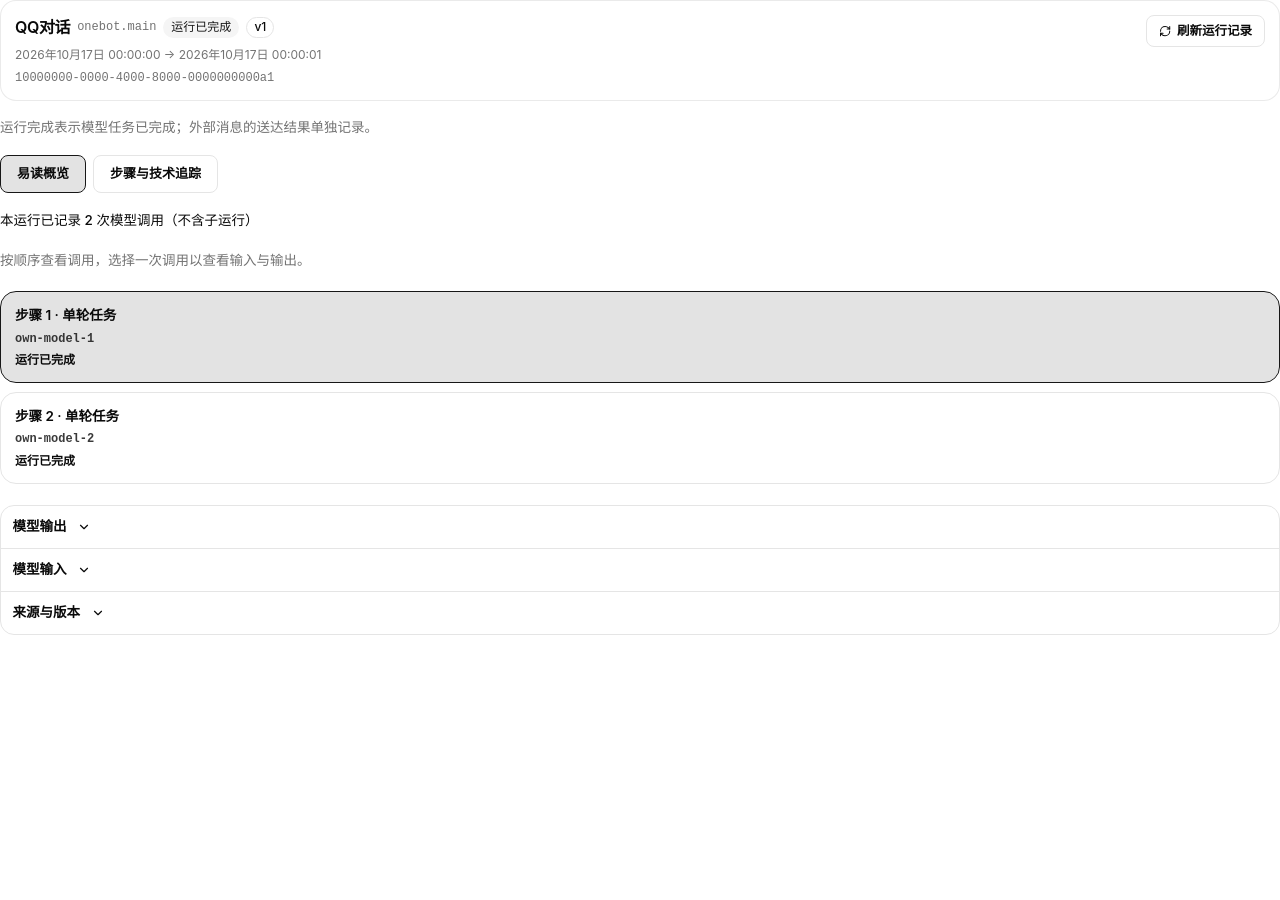
run detail prefetch and two-board sharing › prefetches every own step body while all rows are closed and adds no request on step, view or row changes
Expected: the text "本运行已记录 2 次模型调用（不含子运行）" is shown, [0, 212, 258, 228]
Expected: the button "模型输出" is shown, [1, 506, 102, 548]
Click the button "模型输入". click: (52, 570)
box: [1, 548, 102, 590]
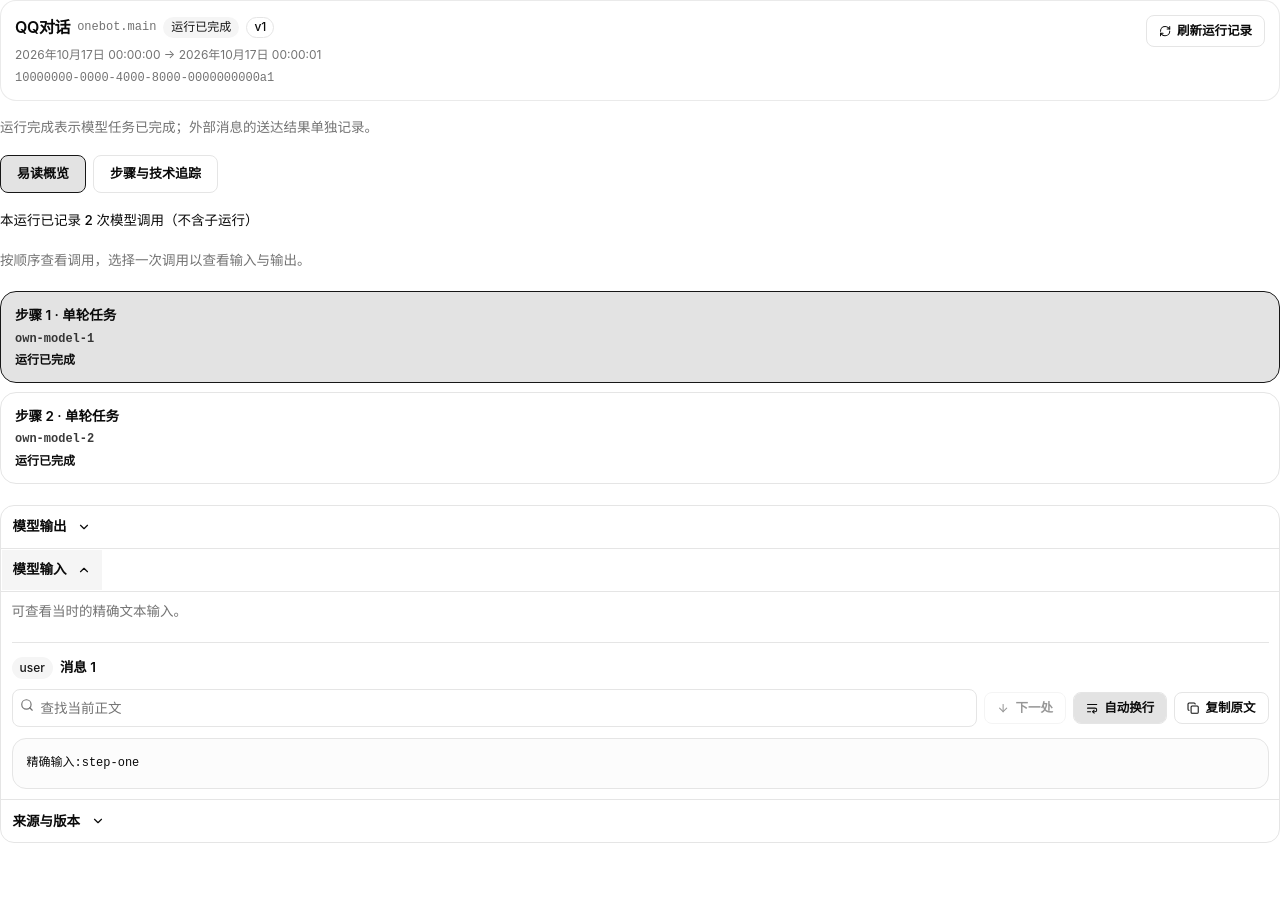
Result: the button "模型输入" is expanded at [1, 548, 102, 590]
Result: the text "精确输入:step-one" is shown at [12, 738, 1268, 789]
# 换选中步：纯视觉切换，不新增读取
Click the button "步骤 2 · 单轮任务 own-model-2 运行已完成". click: (67, 416)
box: [0, 392, 1279, 484]
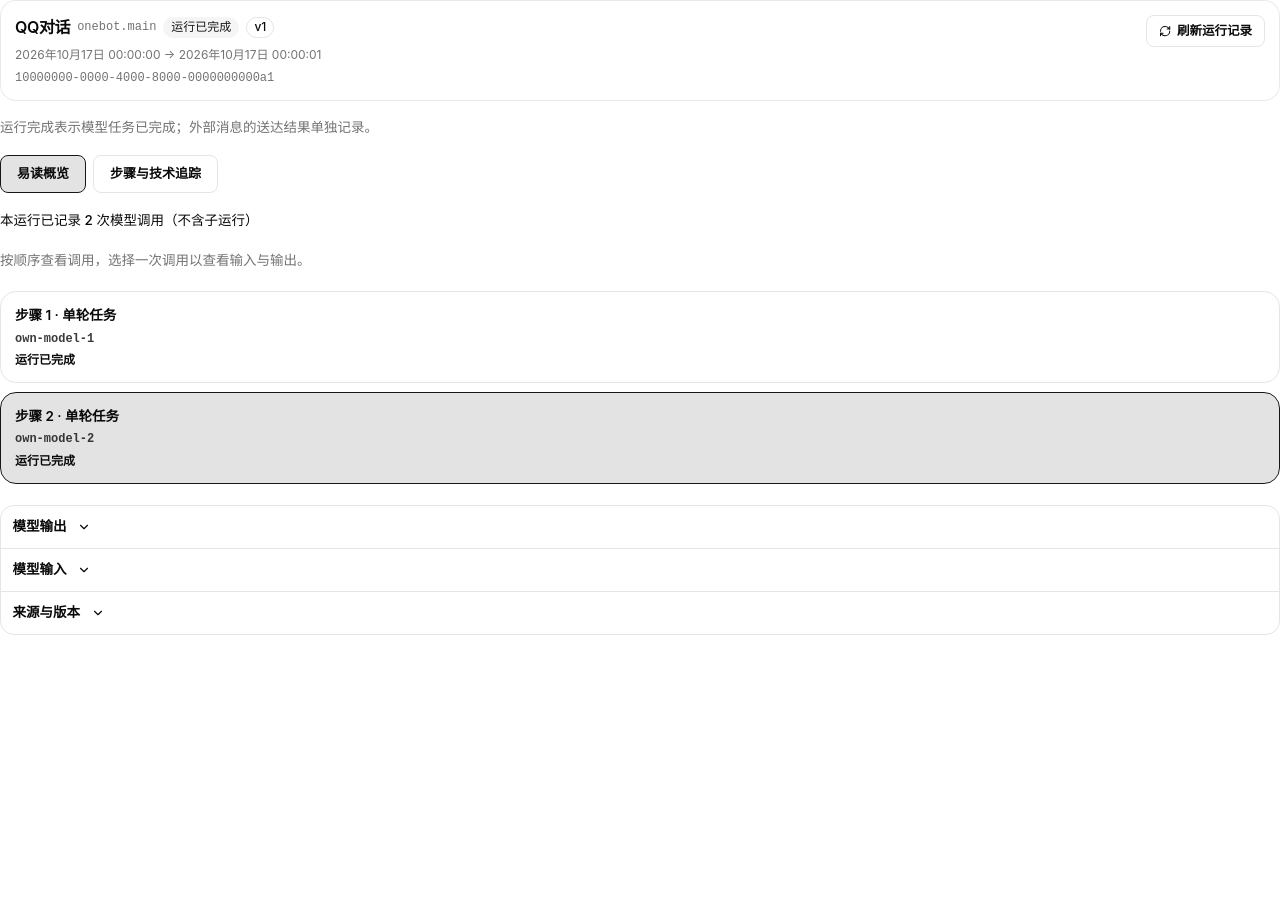
Result: the number of elements named "模型证据" is 1 at [0, 504, 1279, 634]
# 切到技术视图：默认 null，不显示模型证据；无时间线 span 的 own call 用既有步骤标签回退
Click the button "步骤与技术追踪". click: (156, 174)
box: [93, 155, 218, 193]
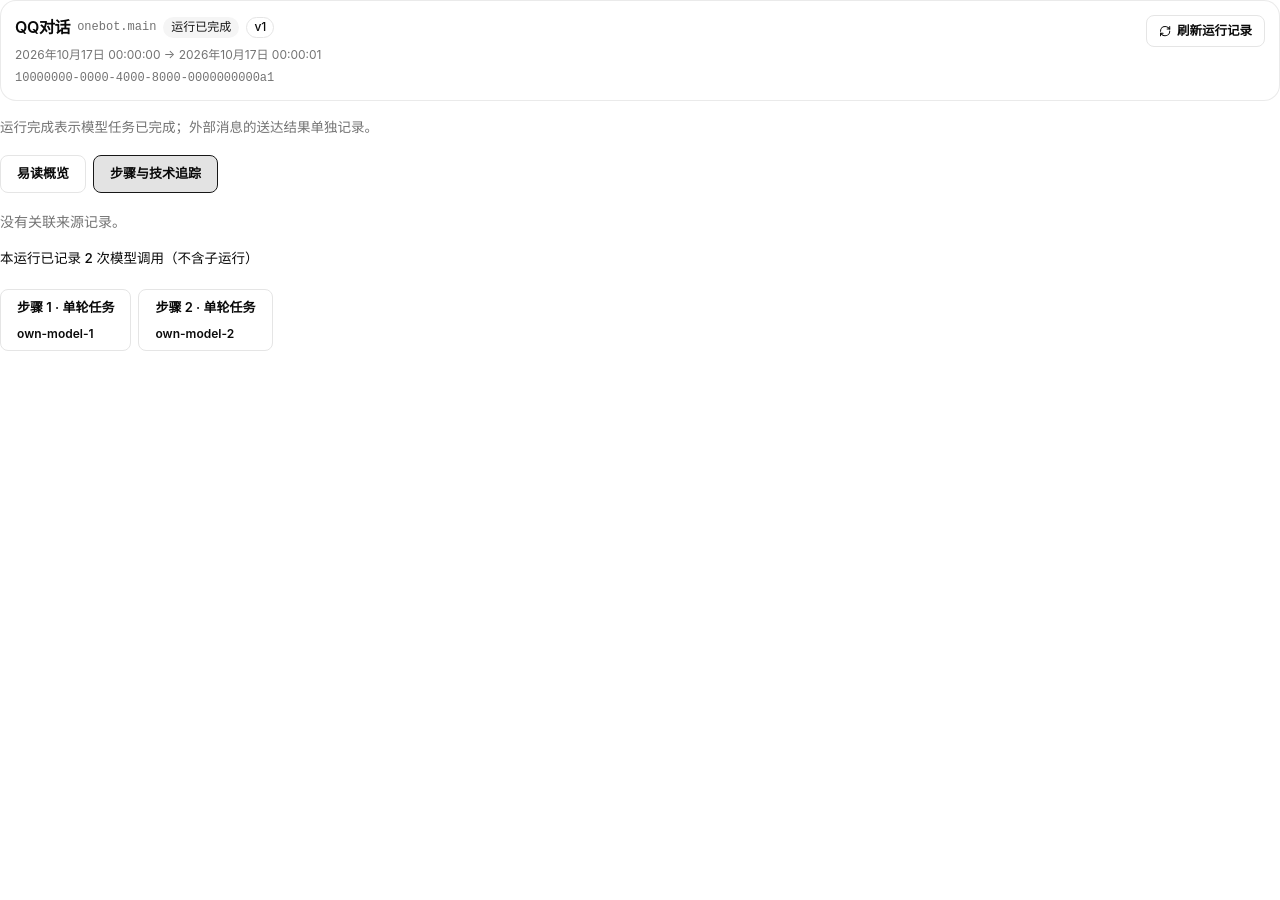
Result: no elements "模型证据" are shown
Result: the number of buttons "步骤 1 · 单轮任务 own-model-1" is 1
Click the button "步骤 1 · 单轮任务 own-model-1". click: (66, 320)
box: [0, 289, 132, 351]
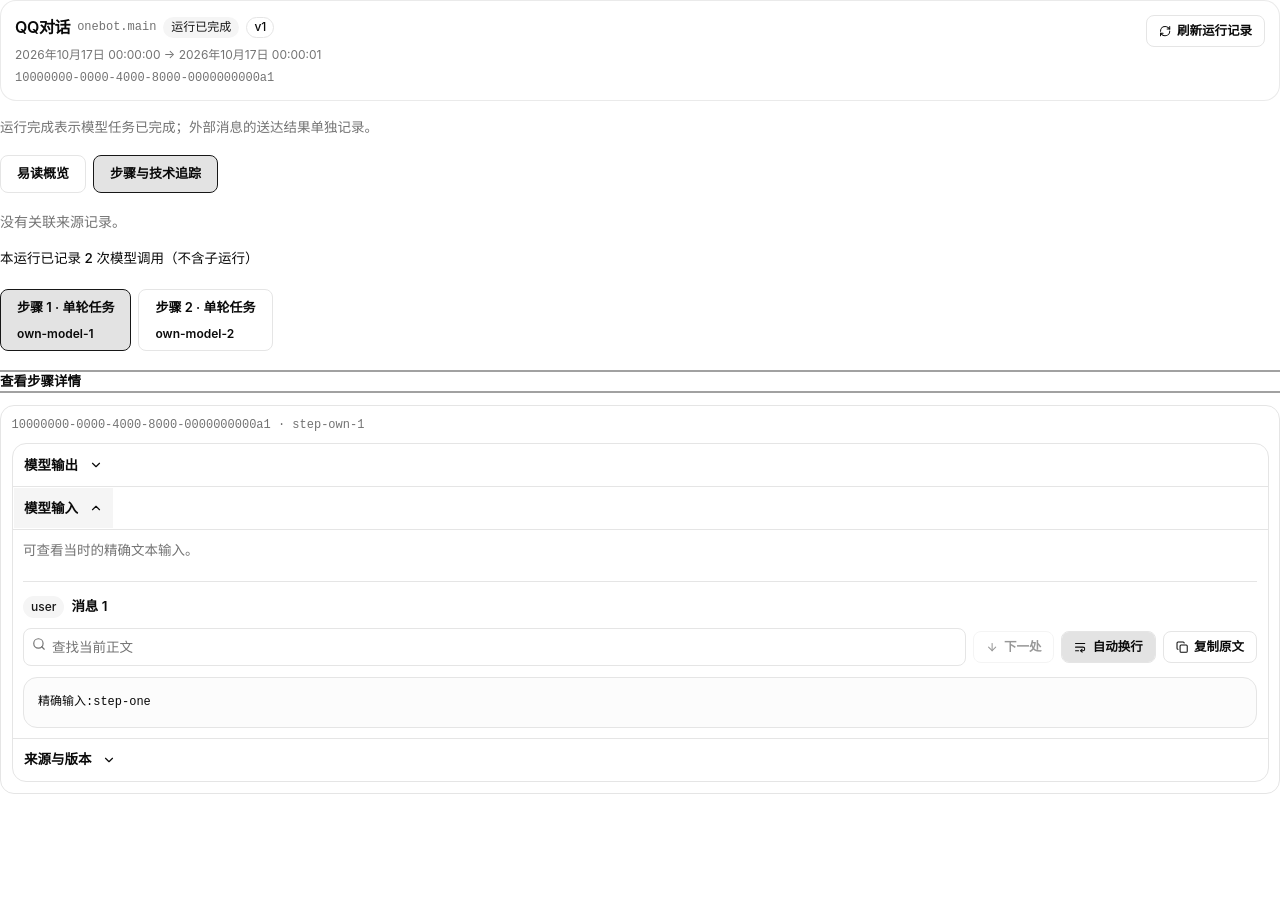
Result: the number of elements named "模型证据" is 1 at [12, 443, 1268, 782]
Result: the text "精确输入:step-one" is shown at [23, 676, 1257, 728]
Click the button "模型输出". click: (63, 465)
box: [12, 444, 114, 486]
(page scrolled)
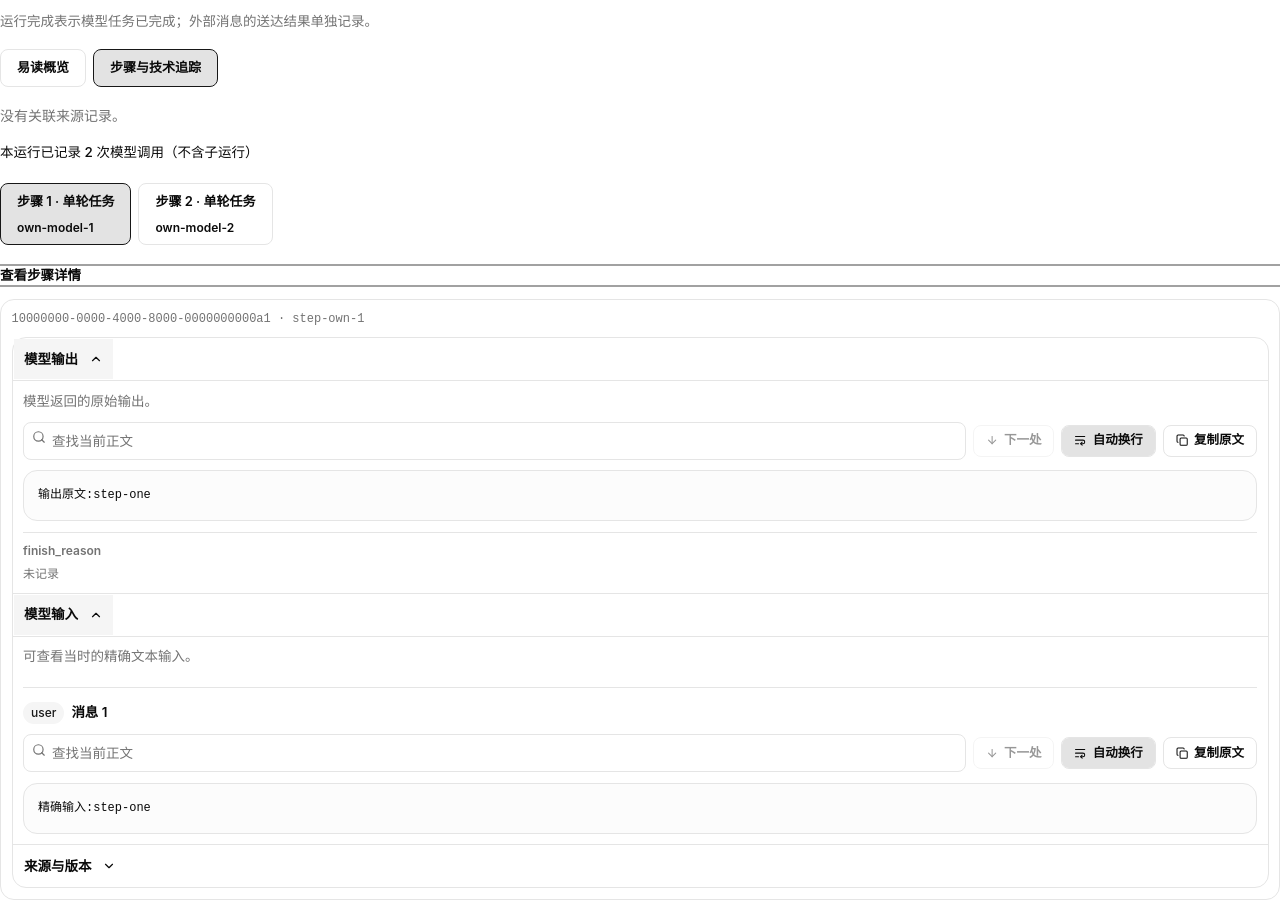
Result: the text "精确输入:step-one" is shown at [23, 783, 1257, 834]
Result: the button "模型输出" is expanded at [12, 338, 114, 380]
